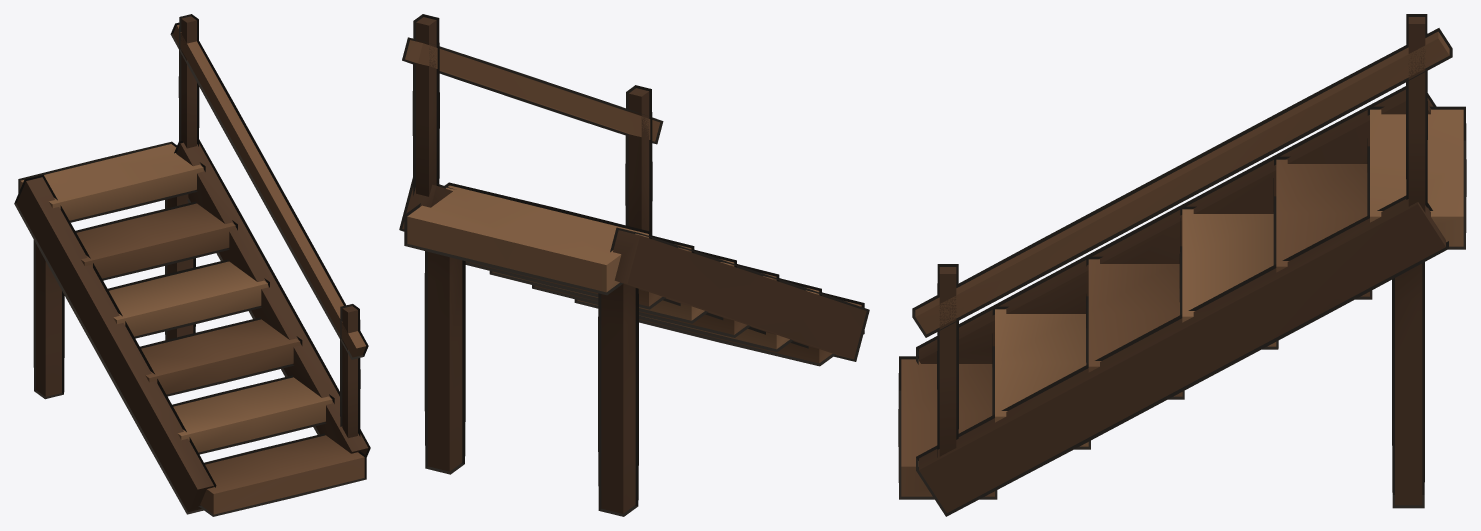
File: escalier_exterieur.glb
The picture shows the model from 3 angles, left to right: view 1: azimuth 30°, elevation 25°; view 2: azimuth 150°, elevation 25°; view 3: azimuth 270°, elevation 25°; orthographic projection. The views are drawn at different scales.
Parts seen in each view (by area): view 1: escalier_exterieur, escalier_exterieur_outline; view 2: escalier_exterieur, escalier_exterieur_outline; view 3: escalier_exterieur, escalier_exterieur_outline.
Boxes of the visible parts, <box> form: escalier_exterieur: <box>16,16,368,514</box>; escalier_exterieur_outline: <box>14,14,370,516</box>; escalier_exterieur: <box>402,17,866,513</box>; escalier_exterieur_outline: <box>399,14,869,516</box>; escalier_exterieur: <box>901,17,1463,512</box>; escalier_exterieur_outline: <box>898,14,1466,516</box>.
Size of the model in its own units: 1.06 by 1.97 by 2.06.
